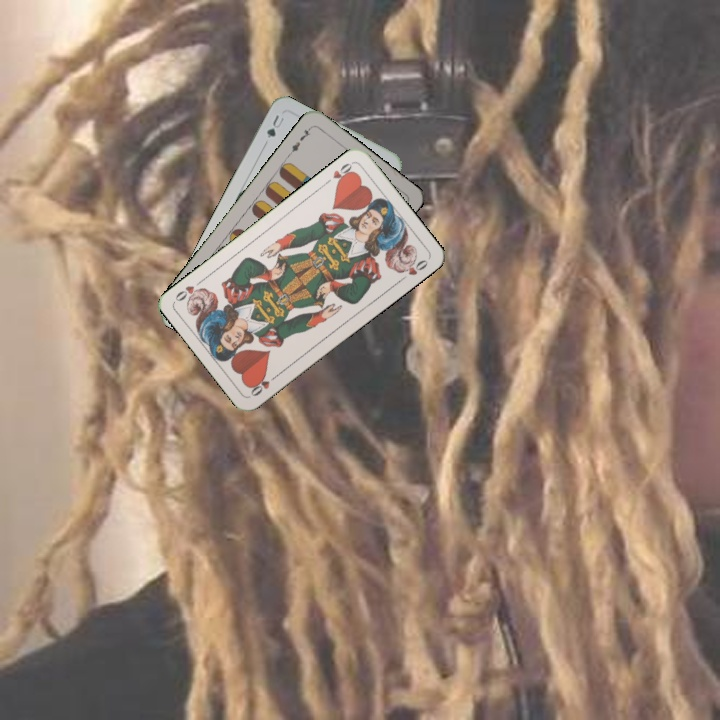E7: (285, 123, 314, 158)
GU: (262, 111, 288, 141)
HO: (321, 158, 356, 188), (246, 370, 281, 399)
